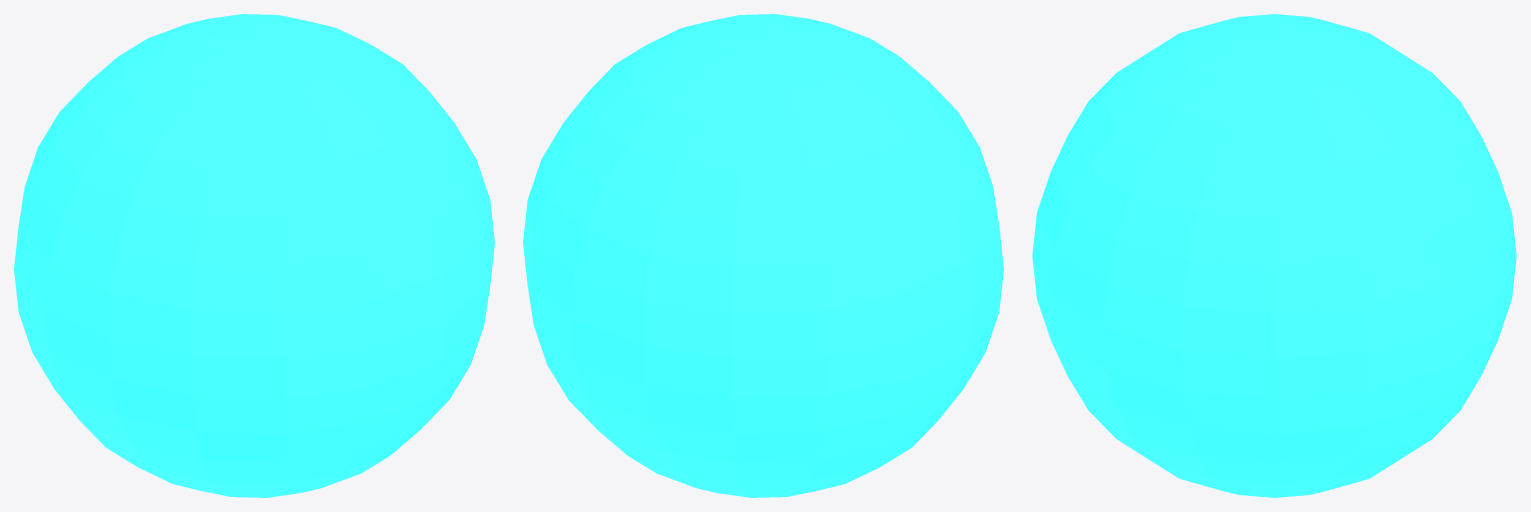
File: Breaker_Ball.fbx
3 renders of one model, left to right at view 1: azimuth 30°, elevation 25°; view 2: azimuth 150°, elevation 25°; view 3: azimuth 270°, elevation 25°, orthographic.
Parts seen in each view (by area): view 1: Ball; view 2: Ball; view 3: Ball.
Part boxes in pixels (x1=…): Ball: x1=14, y1=14, x2=494, y2=497; Ball: x1=523, y1=14, x2=1003, y2=497; Ball: x1=1032, y1=14, x2=1516, y2=497.
Size of the model in its own units: 200 by 200 by 200.
